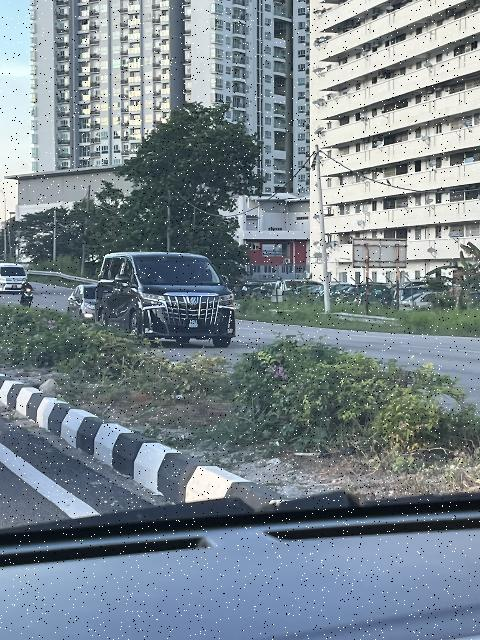License_Plate: (182, 319, 207, 331)
car: (97, 249, 240, 349)
